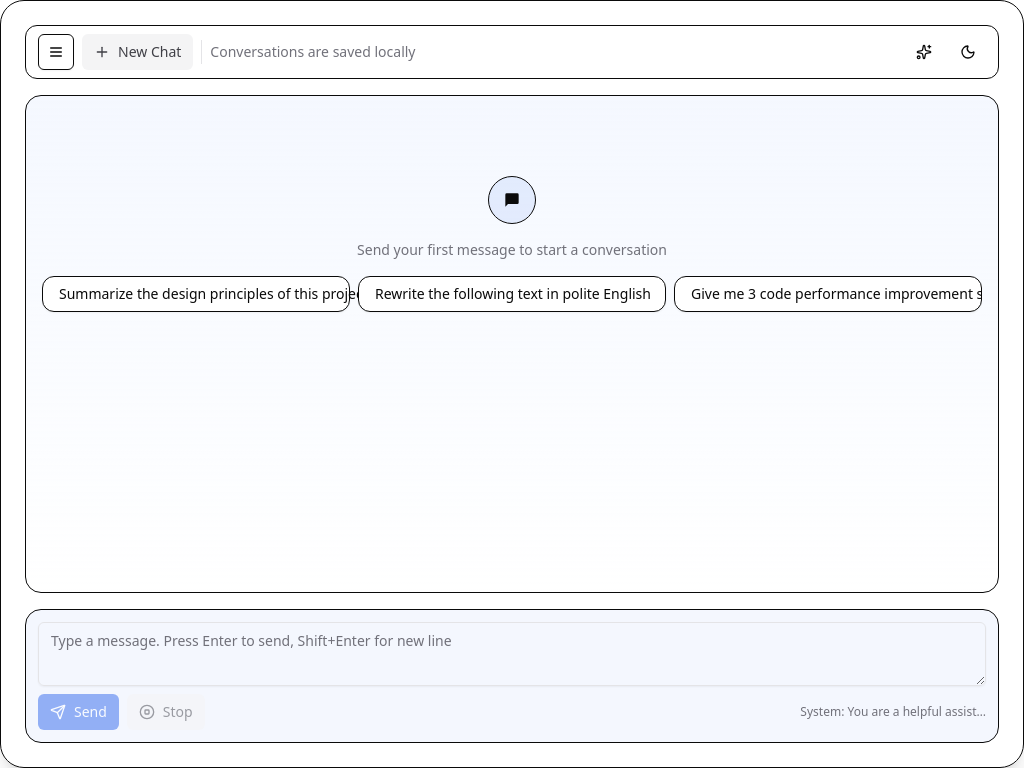
Test: Chat i18n › English locale › displays conversations title in English
Click the button named "Conversation list" at (56, 52), box [38,34,74,70]
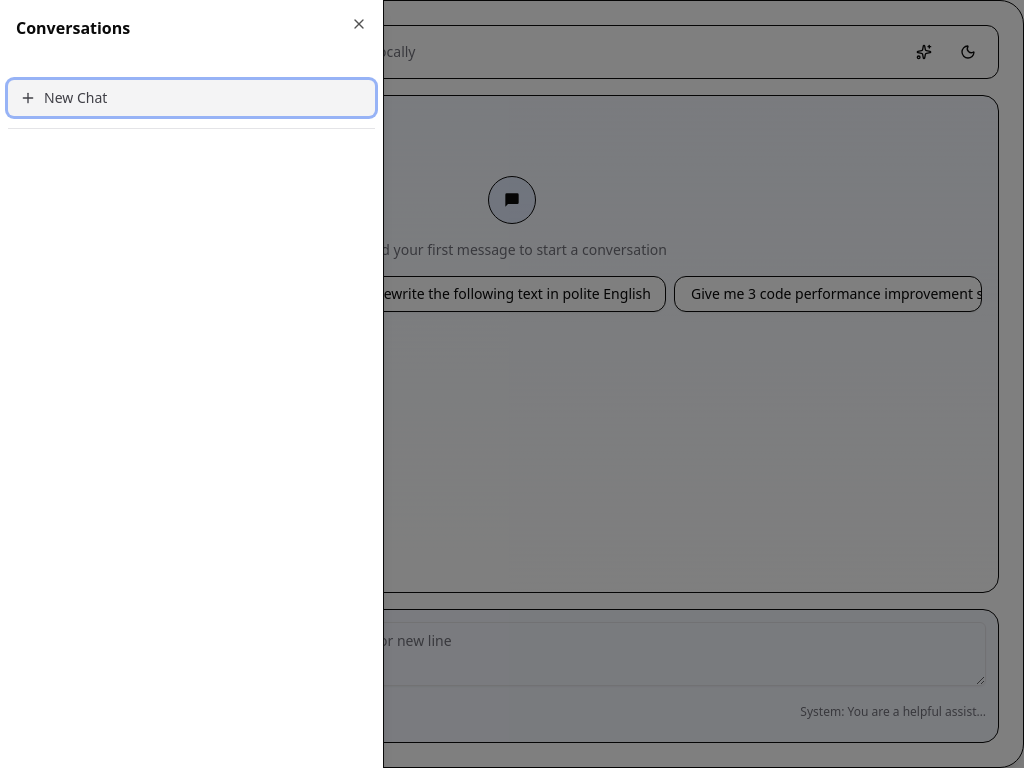
Expected: the heading "Conversations" is shown, [16,17,130,39]
